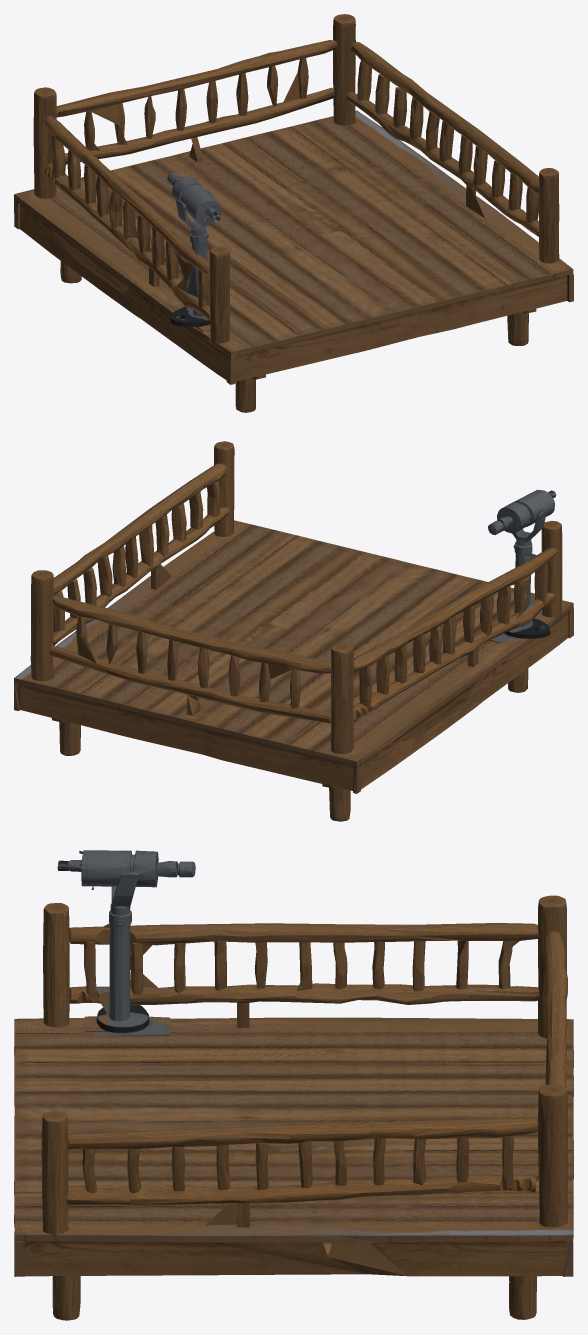
Rendered from overlook.glb.
The picture shows the model from 3 angles, top to bottom: view 1: azimuth 30°, elevation 25°; view 2: azimuth 150°, elevation 25°; view 3: azimuth 270°, elevation 25°; orthographic projection. The views are drawn at different scales.
Size of the model in its own units: 1.83 by 1.03 by 1.9.
1 material, 1 textured.
